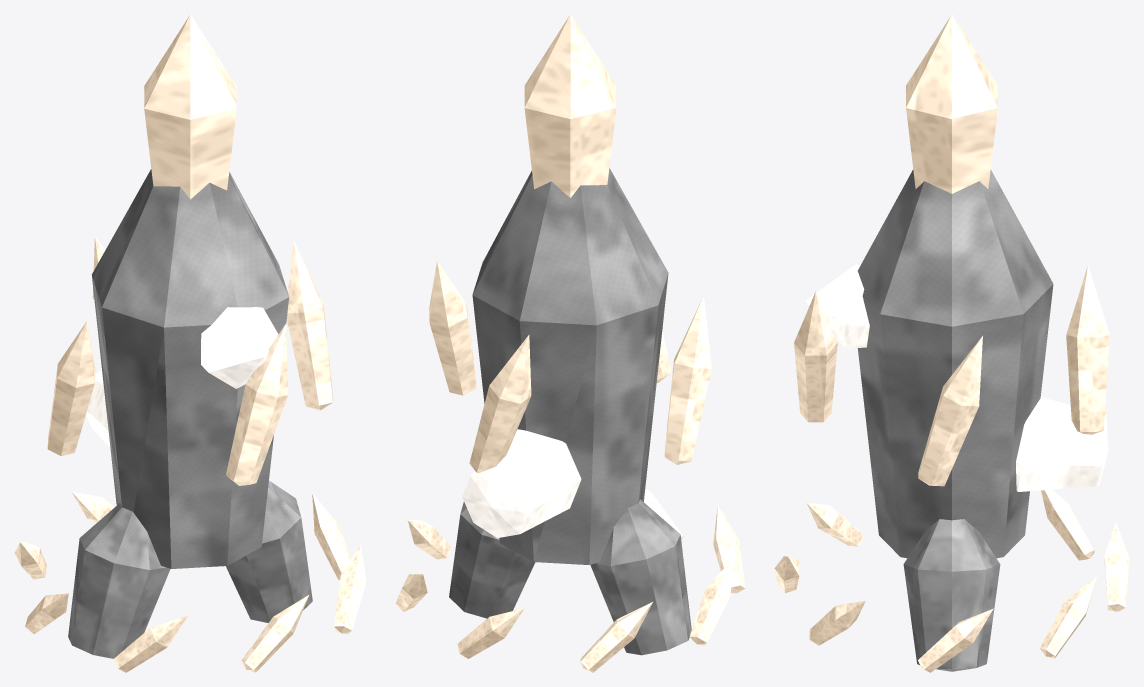
File: deep-fracture-obelisk-warden-visual-earth.glb
The picture shows the model from 3 angles, left to right: view 1: azimuth 30°, elevation 25°; view 2: azimuth 150°, elevation 25°; view 3: azimuth 270°, elevation 25°; orthographic projection.
Parts seen in each view (by area): view 1: central-obelisk, crown-spire, base-left, base-right, secondary-crystal-1, secondary-crystal-0, control-core, secondary-crystal-2, ground-prong-2, ground-prong-1, ground-prong-3, ground-prong-0 (+4 smaller); view 2: central-obelisk, crown-spire, base-left, death-anchor, base-right, secondary-crystal-2, secondary-crystal-3, secondary-crystal-0, ground-prong-5, ground-prong-4, ground-prong-3, ground-prong-6 (+2 smaller); view 3: central-obelisk, crown-spire, base-right, death-anchor, secondary-crystal-3, secondary-crystal-0, secondary-crystal-1, control-core, ground-prong-7, ground-prong-0, ground-prong-5, ground-prong-6 (+3 smaller).
Part boxes in pixels (x1,y1,x2,y2): central-obelisk: (92,169,289,568); crown-spire: (144,14,236,199); base-left: (68,503,170,658); base-right: (226,480,312,622); secondary-crystal-1: (226,324,288,485); secondary-crystal-0: (286,240,333,410); control-core: (201,307,278,388); secondary-crystal-2: (47,320,95,456); ground-prong-2: (241,595,308,672); ground-prong-1: (333,544,366,633); ground-prong-3: (114,615,188,672); ground-prong-0: (312,493,350,579); central-obelisk: (472,168,668,564); crown-spire: (524,14,616,197); base-left: (590,499,691,655); death-anchor: (462,429,581,537); base-right: (449,502,535,618); secondary-crystal-2: (664,295,711,464); secondary-crystal-3: (469,334,531,473); secondary-crystal-0: (429,261,476,395); ground-prong-5: (580,602,652,672); ground-prong-4: (689,559,733,645); ground-prong-3: (713,504,745,593); ground-prong-6: (457,608,524,658); central-obelisk: (857,169,1053,558); crown-spire: (906,14,997,193); base-right: (903,519,1000,671); death-anchor: (1016,397,1108,491); secondary-crystal-3: (1066,265,1109,434); secondary-crystal-0: (918,336,982,486); secondary-crystal-1: (794,291,837,422); control-core: (805,264,869,348); ground-prong-7: (1040,576,1097,658); ground-prong-0: (918,608,993,672); ground-prong-5: (1041,489,1094,560); ground-prong-6: (1104,522,1129,611).
Bounding box in the file's own units: 3.08 × 5.89 × 3.08.
6 materials, 6 textured.
